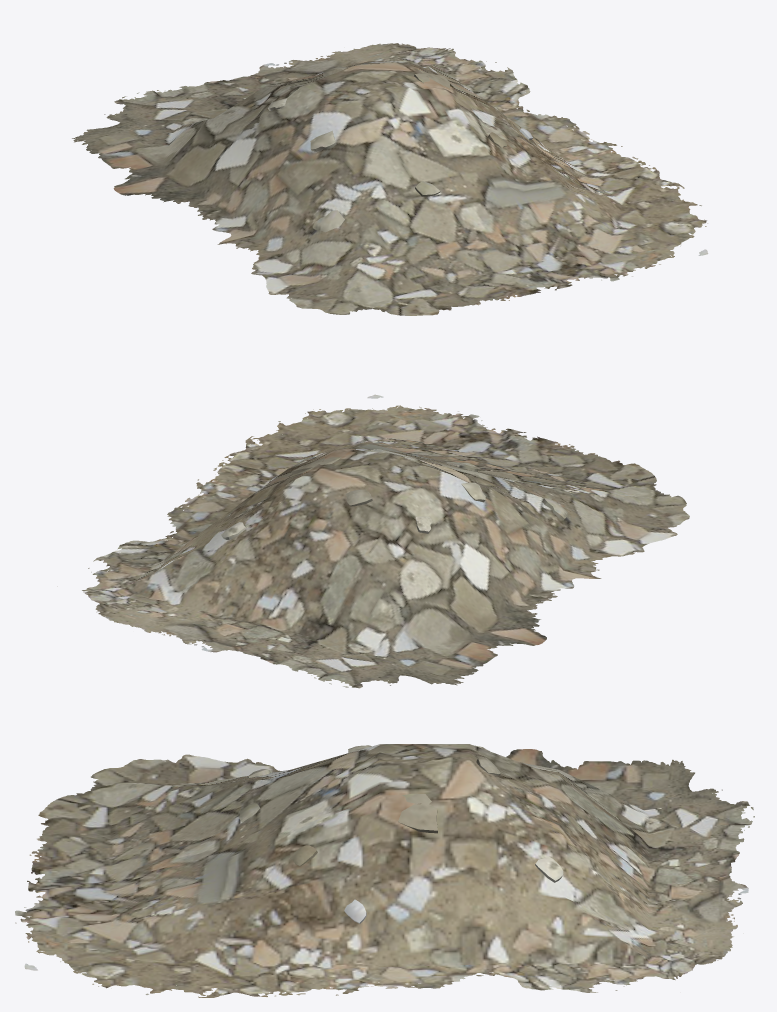
The model's file is Debris01_11.FBX.
3 views of the same model, one above another, from view 1: azimuth 30°, elevation 25°; view 2: azimuth 150°, elevation 25°; view 3: azimuth 270°, elevation 25° (orthographic). The views are drawn at different scales.
Visible parts, largest first — view 1: Debris01_1; view 2: Debris01_1; view 3: Debris01_1.
Boxes of the visible parts, bbox=[...] form: Debris01_1: bbox=[72, 43, 708, 315]; Debris01_1: bbox=[57, 394, 689, 688]; Debris01_1: bbox=[15, 744, 754, 997].
Size of the model in its own units: 164 by 32.87 by 207.
